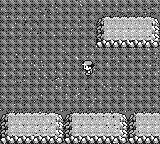main: (81, 61, 94, 75)
no-caminable: (65, 115, 157, 143), (96, 18, 159, 47), (1, 115, 64, 143), (129, 115, 159, 143), (6, 109, 60, 116), (98, 16, 156, 22), (69, 110, 125, 116), (136, 110, 160, 118)
